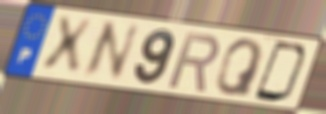9: (132, 27, 178, 87)
D: (251, 39, 311, 105)
N: (78, 20, 143, 81)
Q: (213, 37, 266, 99)
R: (165, 30, 223, 94)
X: (39, 15, 96, 77)
